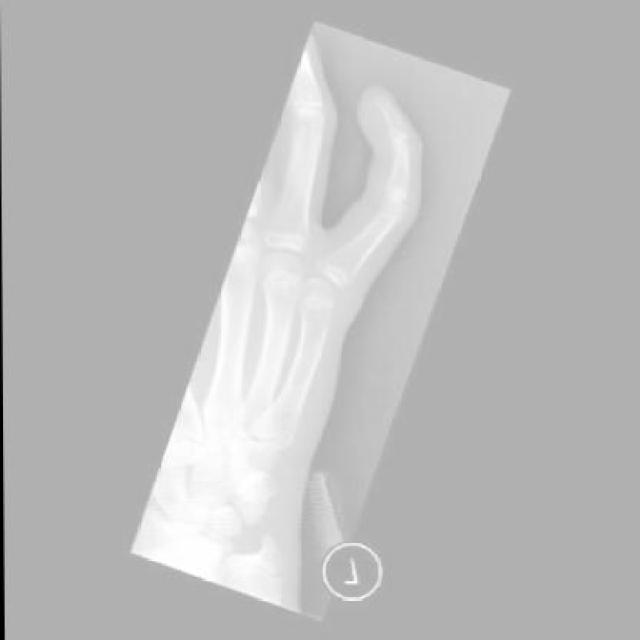Fracture: (385, 120, 416, 142)
